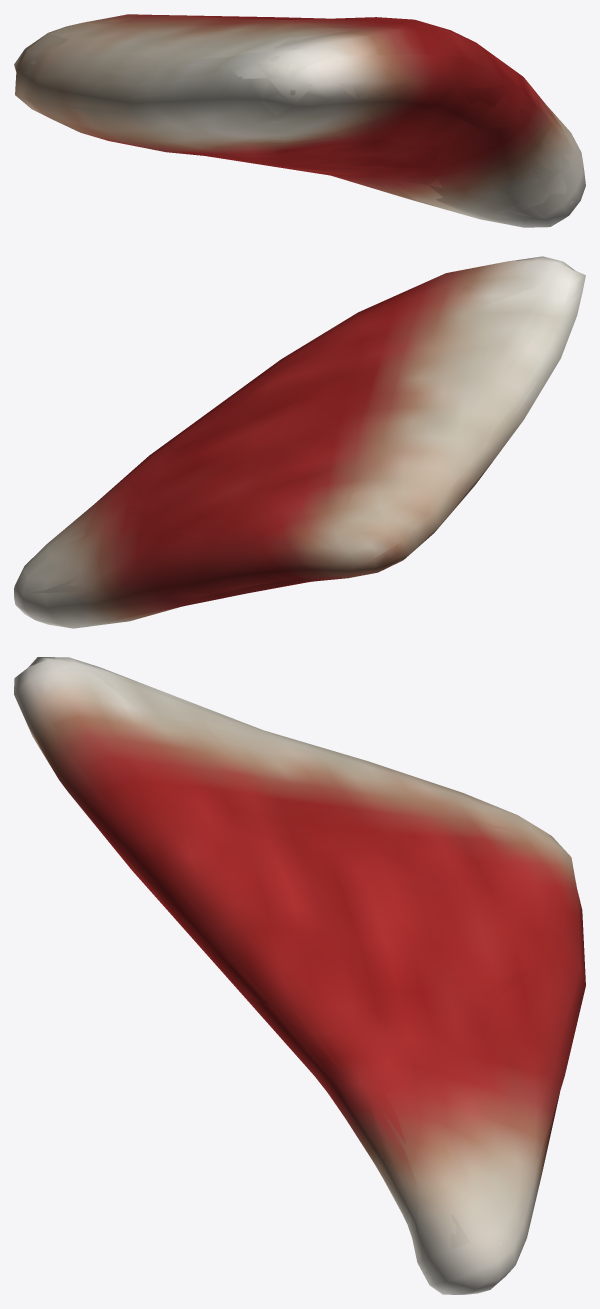
Rendered from L Piriformis.fbx.
3 renders of one model, top to bottom at view 1: azimuth 30°, elevation 25°; view 2: azimuth 150°, elevation 25°; view 3: azimuth 270°, elevation 25°, orthographic. The views are drawn at different scales.
Parts seen in each view (by area): view 1: L Piriformis, L Piriformis low, L Piriformis high; view 2: L Piriformis, L Piriformis low, L Piriformis high; view 3: L Piriformis, L Piriformis low, L Piriformis high.
Part boxes in pixels (<box>): L Piriformis: <box>14,14,585,227</box>; L Piriformis low: <box>14,20,573,218</box>; L Piriformis high: <box>30,19,581,218</box>; L Piriformis: <box>14,256,585,628</box>; L Piriformis low: <box>14,257,585,620</box>; L Piriformis high: <box>21,259,574,617</box>; L Piriformis: <box>14,657,585,1294</box>; L Piriformis low: <box>14,657,577,1292</box>; L Piriformis high: <box>36,659,576,1286</box>.
Size of the model in its own units: 1.36 by 1.01 by 1.25.
